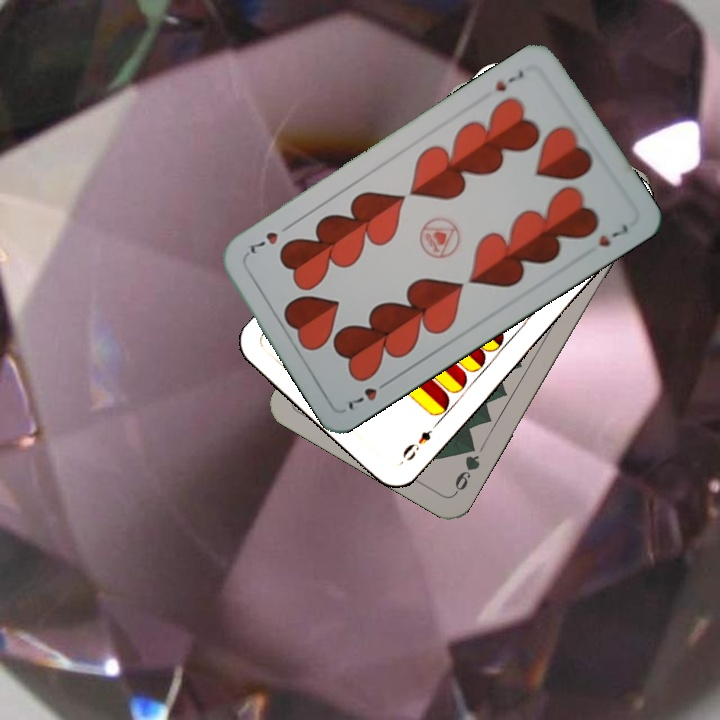E9: (398, 426, 435, 464)
G9: (450, 438, 483, 497)
H7: (344, 374, 394, 413), (491, 66, 527, 94)
